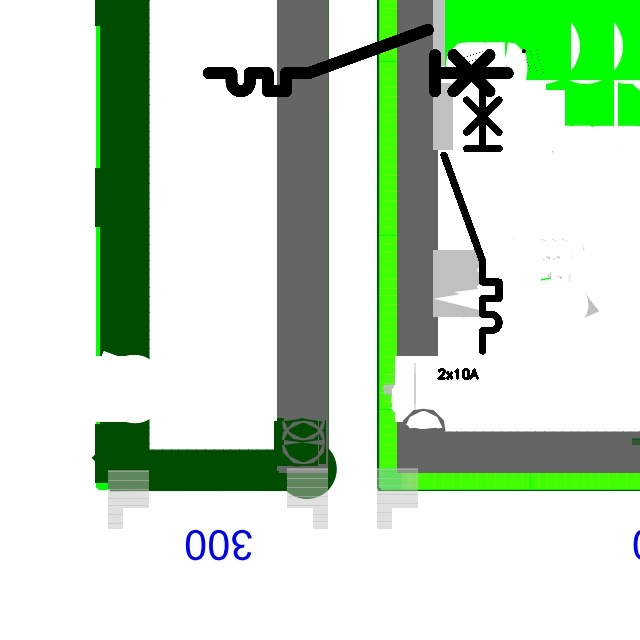interruptor_termomagnetico: (201, 22, 516, 99), (437, 76, 506, 358)
